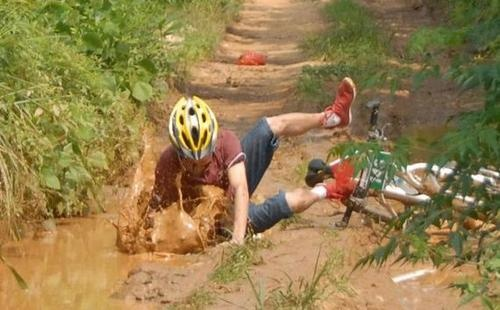falling: (136, 73, 369, 259)
